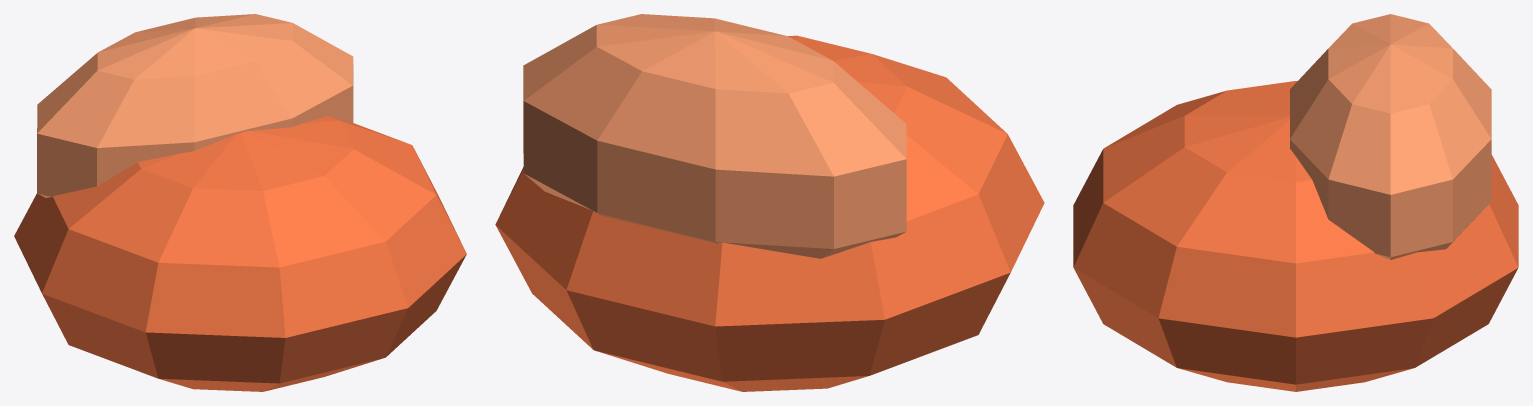
Rendered from beanbag.7eba716c390b.glb.
The picture shows the model from 3 angles, left to right: view 1: azimuth 30°, elevation 25°; view 2: azimuth 150°, elevation 25°; view 3: azimuth 270°, elevation 25°; orthographic projection. The views are drawn at different scales.
Parts seen in each view (by area): view 1: beanbag; view 2: beanbag; view 3: beanbag.
Boxes of the visible parts, x1,y1,x2,y2 form: beanbag: (14, 14, 466, 391); beanbag: (495, 14, 1044, 391); beanbag: (1073, 14, 1518, 391).
Bounding box in the file's own units: 0.86 × 0.62 × 0.7989.
